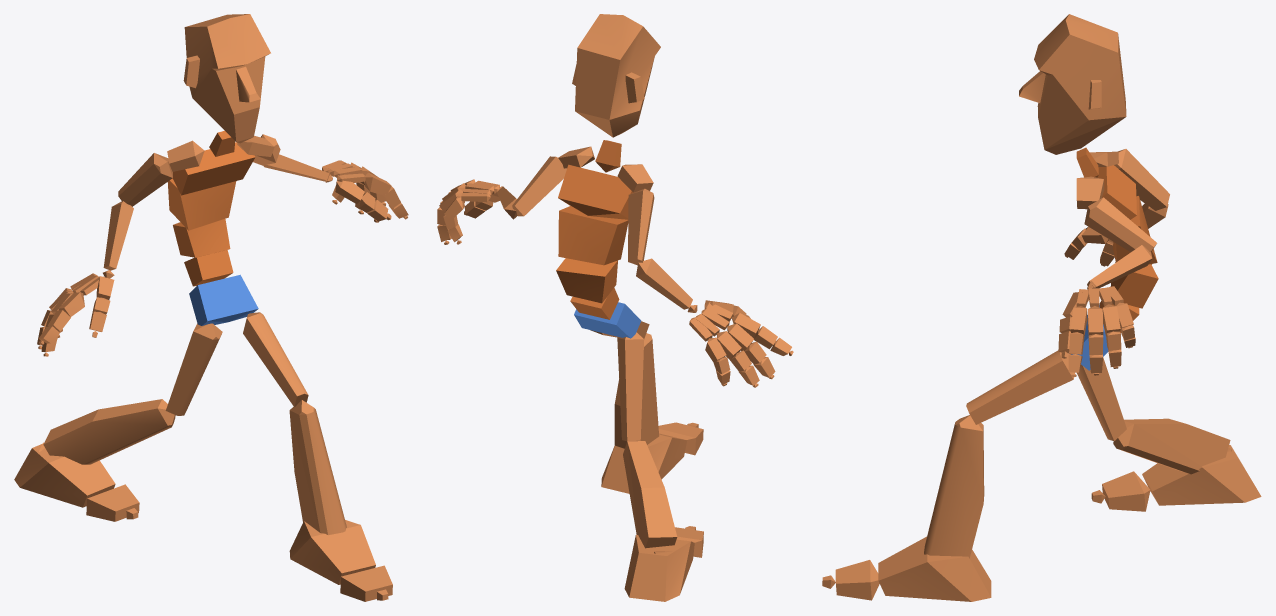
3 renders of one model, left to right at view 1: azimuth 30°, elevation 25°; view 2: azimuth 150°, elevation 25°; view 3: azimuth 270°, elevation 25°, orthographic. The views are drawn at different scales.
Parts seen in each view (by area): view 1: BOPED_Head, BOPED_R_leg, BOPED_L_leg, BOPED_R_foot, BOPED_R_foot01, Bone01, BOPED_L_legup, BOPED_R_legup, Bone04, Bone05, Bone03, BOPED_R_arm_upper (+7 smaller); view 2: BOPED_Head, BOPED_R_leg, BOPED_R_foot, Bone04, Bone05, BOPED_R_legup, Bone03, BOPED_R_foot01, BOPED_L_leg, BOPED_R_arm_upper, BOPED_L_arm_upper, Bone01 (+7 smaller); view 3: BOPED_Head, BOPED_L_leg, BOPED_R_foot01, BOPED_R_leg, BOPED_R_foot, BOPED_L_legup, BOPED_L_arm_upper, BOPED_R_legup, BOPED_R_foot_toe01, BOPED_R_arm_upper, BOPED_R_foot_toe04, Bone05 (+4 smaller).
Part boxes in pixels (box(x1,y1,x2,y2)): BOPED_Head: box(183, 14, 270, 143); BOPED_R_leg: box(43, 399, 175, 464); BOPED_L_leg: box(289, 400, 346, 535); BOPED_R_foot: box(14, 444, 115, 507); BOPED_R_foot01: box(289, 520, 375, 584); Bone01: box(189, 274, 258, 325); BOPED_L_legup: box(243, 312, 308, 406); BOPED_R_legup: box(165, 323, 222, 415); Bone04: box(167, 178, 236, 230); Bone05: box(172, 142, 255, 195); Bone03: box(173, 219, 230, 257); BOPED_R_arm_upper: box(118, 153, 172, 206); BOPED_Head: box(572, 14, 660, 137); BOPED_R_leg: box(623, 440, 677, 548); BOPED_R_foot: box(624, 534, 694, 601); Bone04: box(558, 206, 628, 265); Bone05: box(558, 164, 634, 219); BOPED_R_legup: box(617, 332, 644, 441); Bone03: box(556, 258, 617, 303); BOPED_R_foot01: box(601, 433, 687, 493); BOPED_L_leg: box(614, 333, 659, 448); BOPED_R_arm_upper: box(628, 188, 654, 265); BOPED_L_arm_upper: box(512, 156, 566, 216); Bone01: box(574, 302, 641, 338); BOPED_Head: box(1019, 14, 1126, 154); BOPED_L_leg: box(924, 415, 984, 558); BOPED_R_foot01: box(878, 536, 991, 601); BOPED_R_leg: box(1113, 418, 1230, 474); BOPED_R_foot: box(1142, 445, 1261, 505); BOPED_L_legup: box(966, 350, 1074, 424); BOPED_L_arm_upper: box(1084, 197, 1156, 252); BOPED_R_legup: box(1069, 353, 1126, 440); BOPED_R_foot_toe01: box(1102, 471, 1150, 511); BOPED_R_arm_upper: box(1114, 149, 1169, 210); BOPED_R_foot_toe04: box(835, 560, 879, 600); Bone05: box(1097, 165, 1136, 219).
Size of the model in its own units: 130 by 177 by 128.
